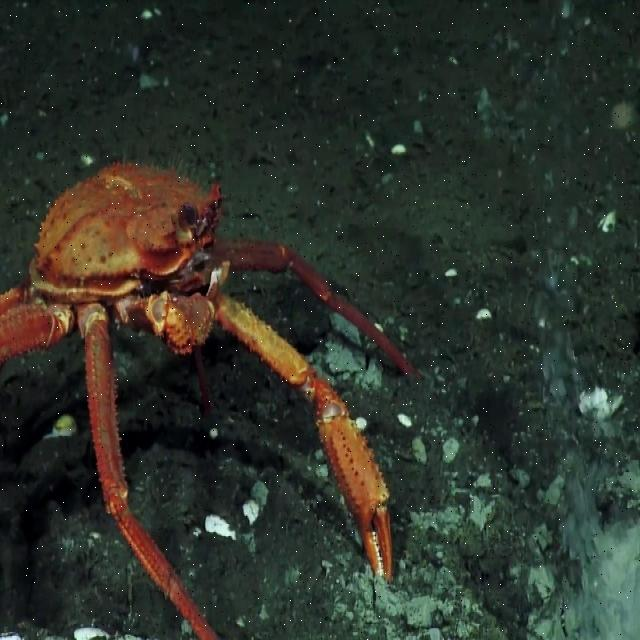reefs: (0, 162, 414, 639)
